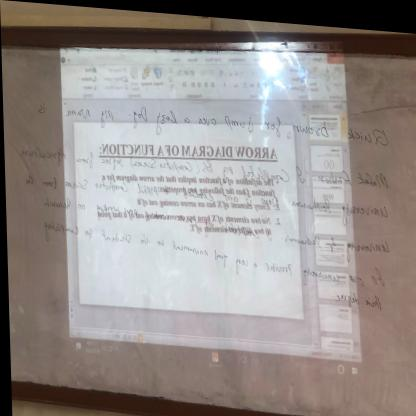Handwritten text: (33, 216, 408, 290), (6, 121, 391, 191), (32, 194, 395, 259), (53, 84, 402, 151), (15, 163, 397, 219), (320, 280, 383, 311)
Whiteboard: (0, 5, 416, 416)
